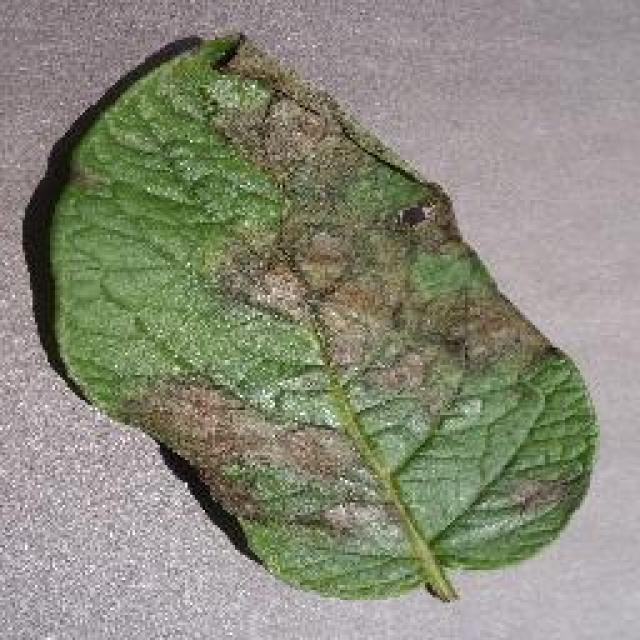late_blight: (30, 27, 602, 605)
